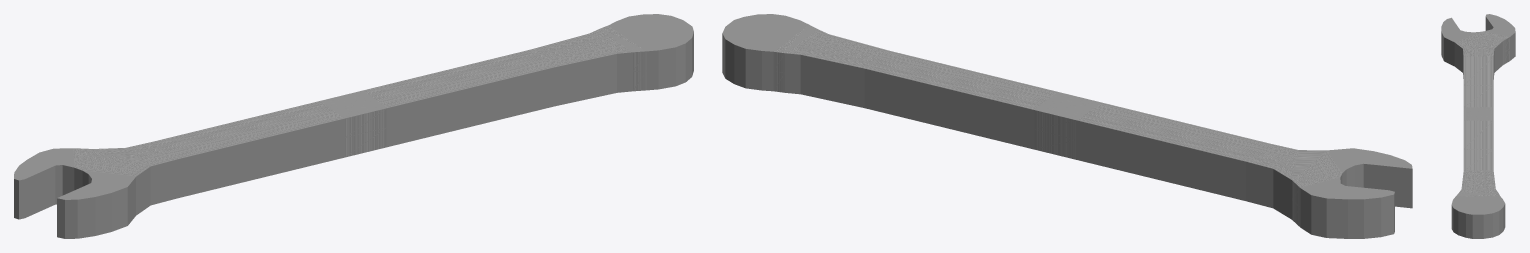
Rendered from Wrench.fbx.
3 renders of one model, left to right at view 1: azimuth 30°, elevation 25°; view 2: azimuth 150°, elevation 25°; view 3: azimuth 270°, elevation 25°, orthographic. The views are drawn at different scales.
Visible parts, largest first — view 1: Wrench; view 2: Wrench; view 3: Wrench.
Boxes of the visible parts, <box> form: Wrench: <box>14,14,693,238</box>; Wrench: <box>722,14,1412,238</box>; Wrench: <box>1441,14,1515,238</box>.
Bounding box in the file's own units: 1416 × 79.52 × 222.
1 material, 1 textured.
